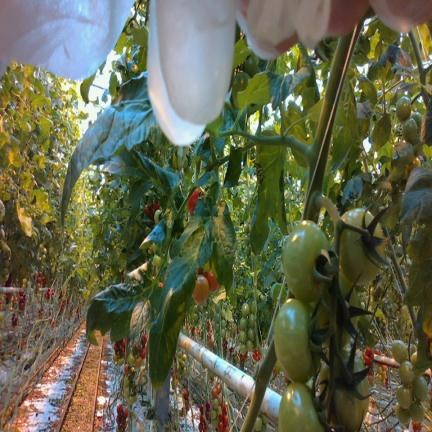6kp_peduncle: (302, 164, 341, 226)
6kp_petiole: (282, 102, 337, 199)
MainStem: (303, 20, 365, 223), (239, 338, 277, 432), (409, 30, 425, 84)
tomato: (319, 350, 369, 431), (283, 220, 329, 302), (315, 270, 360, 348), (339, 208, 383, 285), (274, 298, 313, 382), (279, 382, 324, 431), (193, 275, 209, 304), (396, 96, 411, 122), (412, 376, 427, 401), (396, 385, 412, 408), (399, 361, 414, 385), (402, 118, 417, 142), (392, 340, 408, 362), (395, 402, 410, 425), (409, 401, 424, 422), (206, 270, 220, 292), (188, 189, 199, 214), (411, 111, 423, 132), (413, 134, 423, 155), (407, 157, 420, 171), (144, 203, 153, 217), (241, 302, 249, 317), (152, 254, 161, 267), (410, 350, 417, 366), (254, 417, 262, 431), (239, 317, 247, 330), (247, 328, 255, 341), (248, 314, 255, 328), (239, 330, 247, 342), (128, 352, 135, 365), (154, 210, 160, 224), (212, 398, 219, 410), (127, 395, 135, 405), (243, 223, 250, 234), (261, 414, 268, 425), (223, 414, 229, 426), (141, 334, 147, 346), (153, 200, 160, 210), (240, 344, 247, 354), (246, 340, 253, 350), (250, 300, 255, 314), (244, 246, 251, 256), (135, 357, 142, 367), (211, 387, 217, 398), (243, 236, 249, 246), (217, 394, 222, 406), (211, 410, 217, 420), (140, 347, 145, 359), (124, 386, 129, 398), (117, 404, 123, 414), (216, 383, 221, 394), (124, 375, 129, 386), (145, 226, 151, 235), (220, 308, 225, 318), (123, 409, 128, 419), (244, 257, 250, 265), (211, 419, 217, 427), (218, 422, 223, 431), (198, 422, 203, 431), (153, 242, 157, 253), (199, 403, 203, 414), (118, 358, 124, 365), (215, 322, 219, 332), (215, 304, 219, 314), (206, 400, 210, 410), (215, 313, 219, 322), (219, 412, 223, 421), (113, 354, 118, 361), (221, 319, 225, 327), (117, 414, 121, 422), (224, 425, 229, 431), (116, 425, 122, 430), (221, 329, 225, 336), (200, 415, 204, 422)
